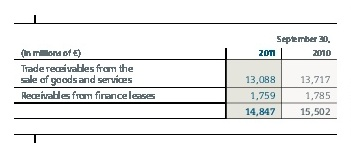table: (0, 0, 351, 157)
